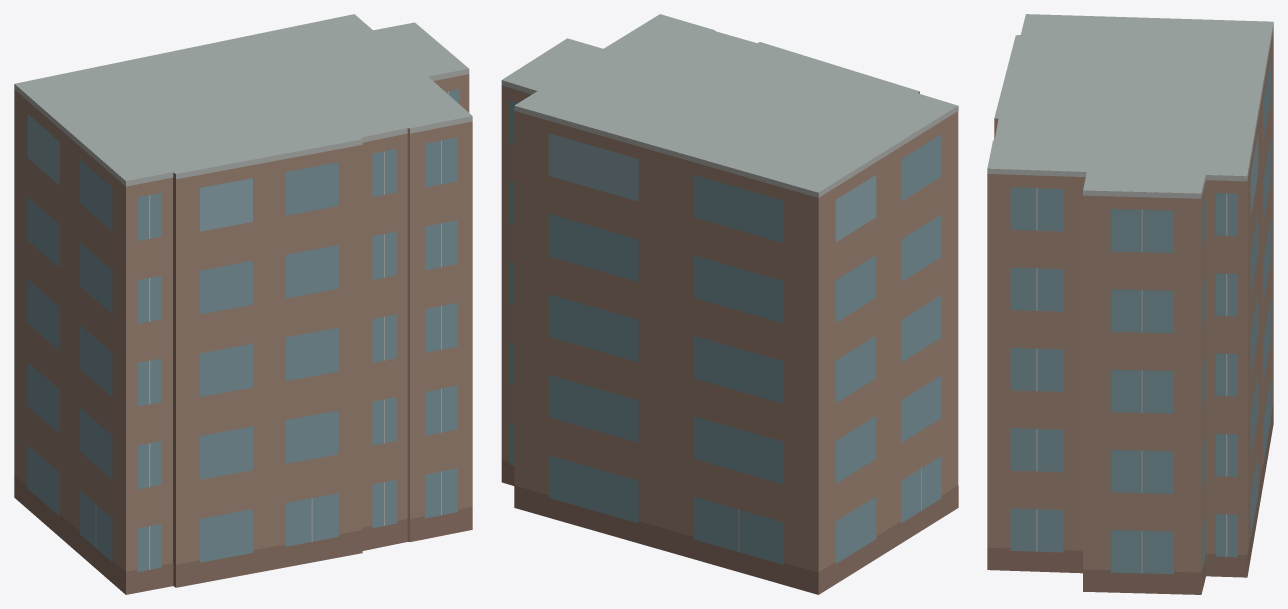
File: survey-upis-33002605.glb
The picture shows the model from 3 angles, left to right: view 1: azimuth 30°, elevation 25°; view 2: azimuth 150°, elevation 25°; view 3: azimuth 270°, elevation 25°; orthographic projection. The views are drawn at different scales.
Visible parts, largest first — view 1: survey-upis-33002605.tmp; view 2: survey-upis-33002605.tmp; view 3: survey-upis-33002605.tmp.
Part boxes in pixels (x1,y1,x2,y2): survey-upis-33002605.tmp: [14, 14, 472, 594]; survey-upis-33002605.tmp: [501, 14, 958, 594]; survey-upis-33002605.tmp: [987, 14, 1273, 594].
Size of the model in its own units: 18.15 by 18.9 by 12.24.
